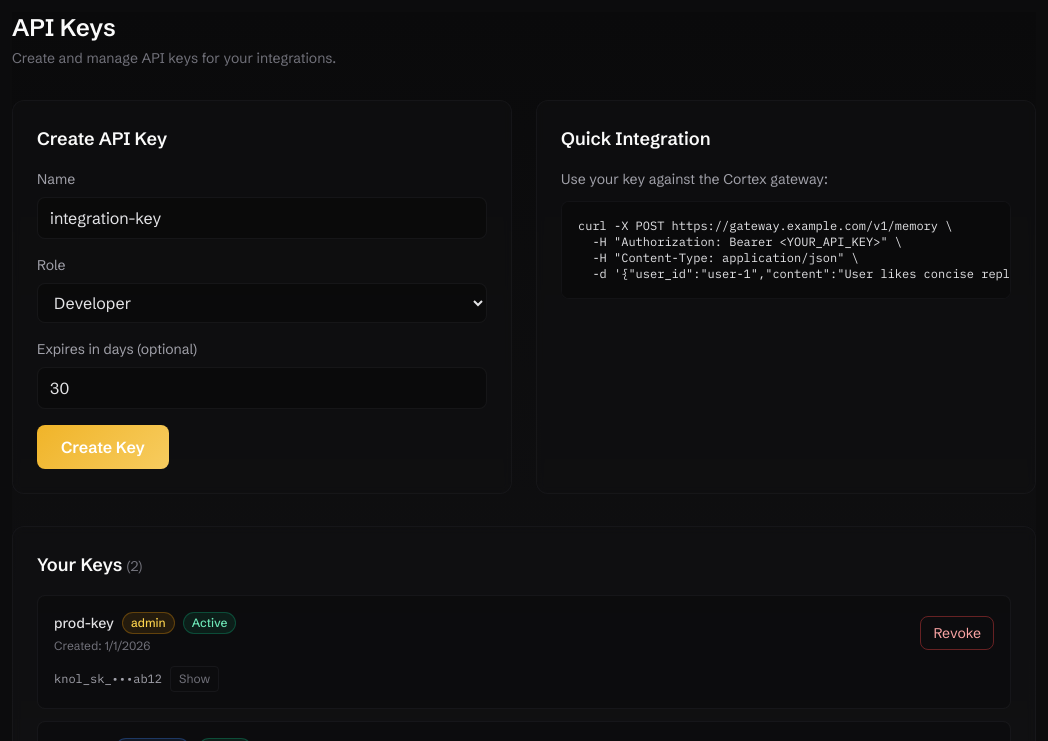
Test: ApiKeysPage › Hide button masks key again
The width and height of the screenshot is (1048, 741).
expect the button "Create Key" is shown: met, box [37,425,169,469]
Submit the text "Create Key", box [37,169,487,469]
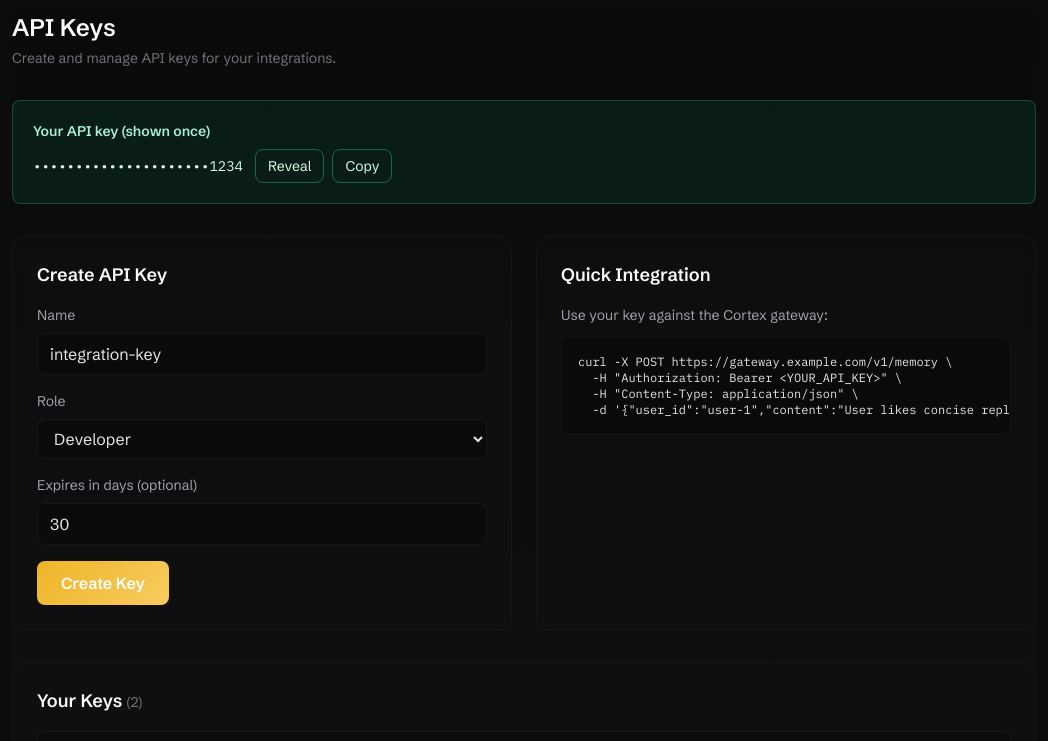
expect the button "Reveal" is shown: met
Click the button "Reveal" at (290, 166), box [255,149,324,183]
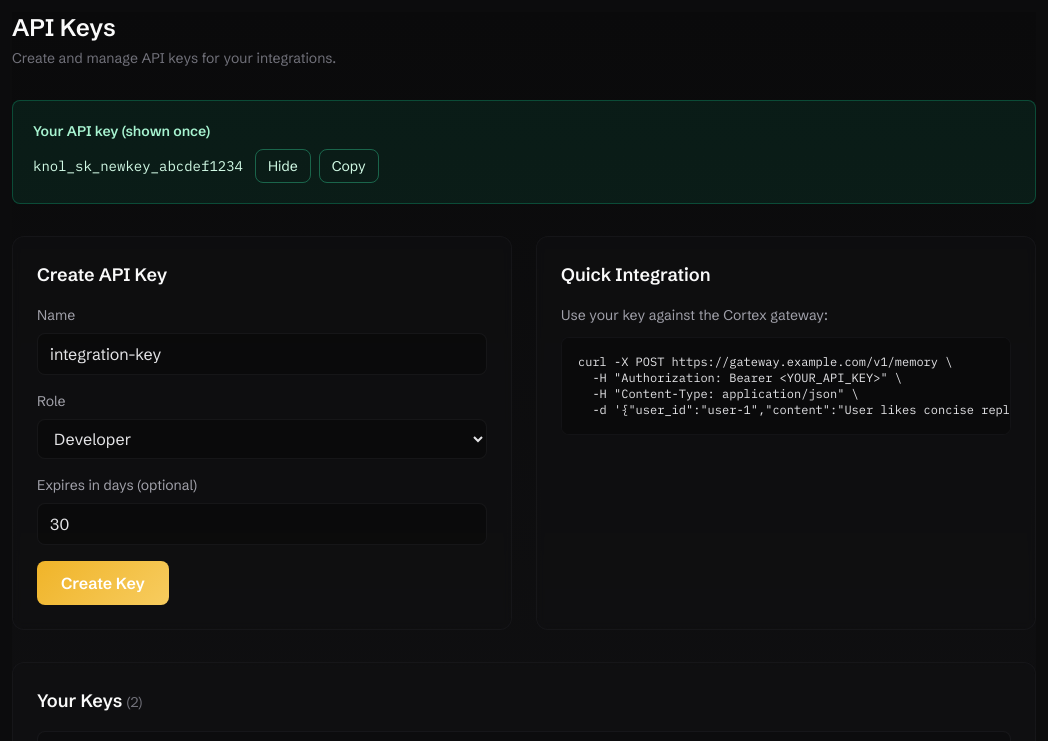
expect the text "knol_sk_newkey_abcdef1234" is shown: met, box [33,156,243,176]
Click the button "Hide" at (283, 166), box [255,149,311,183]
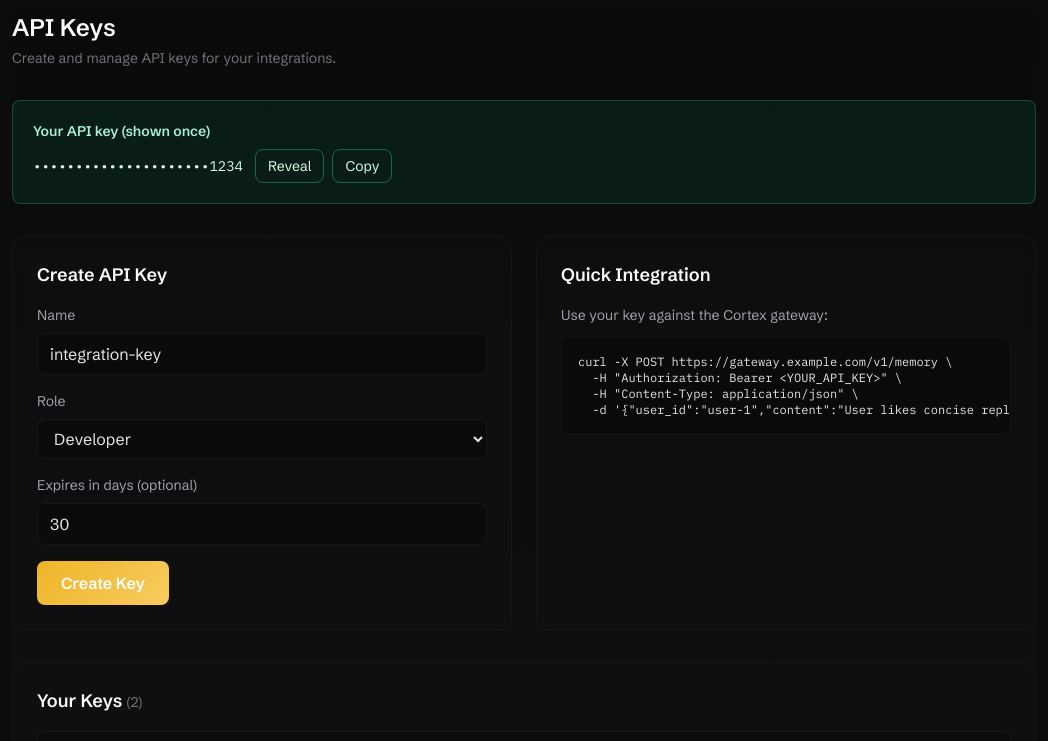
expect the text "knol_sk_newkey_abcdef1234" is gone: met
